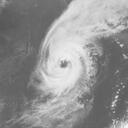cyclone: (39, 31, 95, 97)
